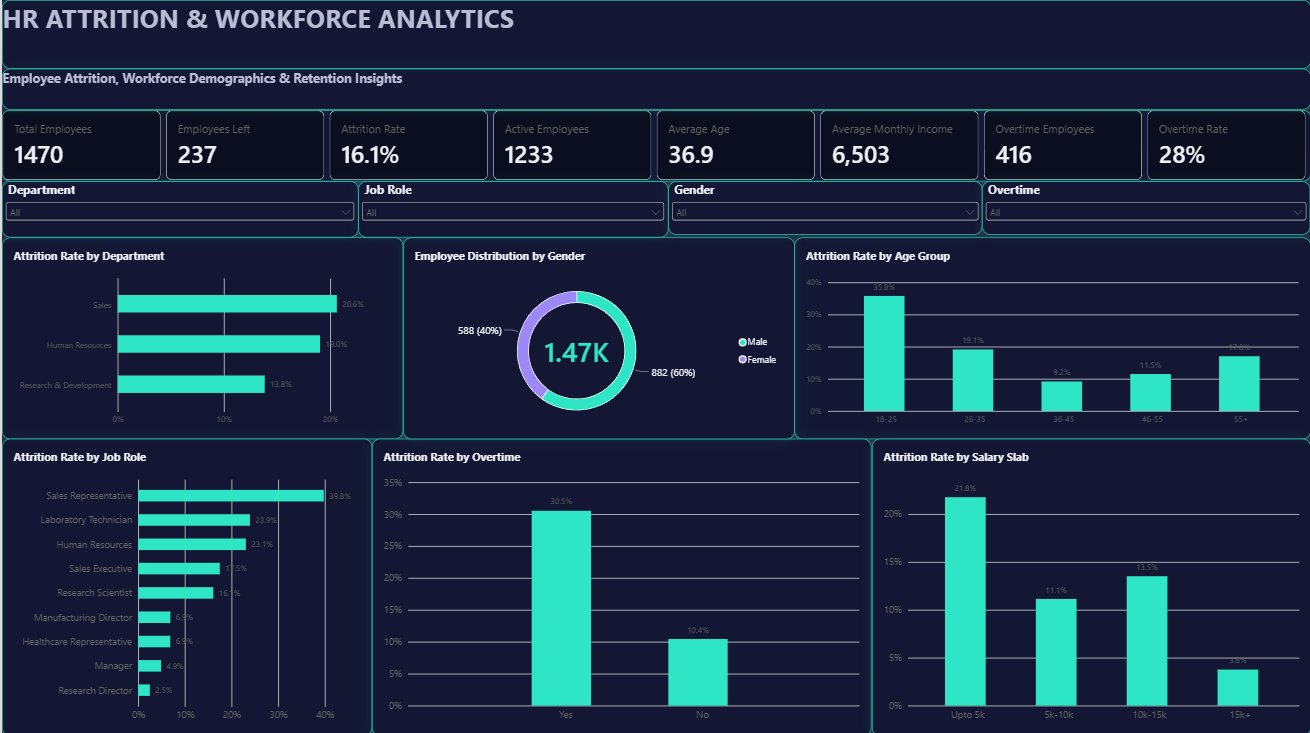

The dashboard page shown, as its layout file describes it:
{"tool":"powerbi","page":{"name":"Page 1","canvas":[1920,1080],"ordinal":0},"visuals":[{"type":"cardVisual","fields":{"Data":["HR Measures.Total Employees","HR Measures.Employees Left","HR Measures.Attrition Rate","HR Measures.Active Employees","HR Measures.Average Age","HR Measures.Average Monthly Income","HR Measures.Overtime Employees","HR Measures.Overtime Rate"]},"box":[0,160.5,1920.4,105],"z":0},{"type":"clusteredBarChart","title":"Attrition Rate by Department","fields":{"Category":["HR_Analytics.Department"],"Y":["HR Measures.Department Attrition Rate"]},"box":[0,347.9,588.7,296.4],"z":1000},{"type":"clusteredColumnChart","fields":{"Category":["HR_Analytics.Age Group"],"Y":["HR Measures.Attrition Rate"]},"box":[1163,347.9,757.5,296.4],"z":2000},{"type":"clusteredBarChart","fields":{"Category":["HR_Analytics.Job Role"],"Y":["HR Measures.Attrition Rate"]},"box":[0,644.3,543.4,436.4],"z":3000},{"type":"clusteredColumnChart","fields":{"Category":["HR_Analytics.Overtime"],"Y":["HR Measures.Attrition Rate"]},"box":[543.4,644.3,732.8,436.4],"z":4000},{"type":"clusteredColumnChart","fields":{"Category":["HR_Analytics.Salary Slab"],"Y":["HR Measures.Attrition Rate"]},"box":[1276.2,644.3,644.3,436.4],"z":5000},{"type":"donutChart","title":"Employee Distribution by Gender","fields":{"Category":["HR_Analytics.Gender"],"Y":["CountNonNull(HR_Analytics.Employee ID)"]},"box":[588.7,347.9,574.3,296.4],"z":6000},{"type":"slicer","fields":{"Values":["HR_Analytics.Department"]},"box":[0,265.5,522.8,82.3],"z":7000},{"type":"slicer","fields":{"Values":["HR_Analytics.Job Role"]},"box":[522.8,265.5,454.9,82.3],"z":8000},{"type":"slicer","fields":{"Values":["HR_Analytics.Gender"]},"box":[977.7,265.5,461.1,78.2],"z":9000},{"type":"slicer","fields":{"Values":["HR_Analytics.Overtime"]},"box":[1438.8,265.5,481.6,78.2],"z":10000},{"type":"textbox","box":[0,0,1920.5,100.9],"z":10001},{"type":"textbox","box":[0,100.9,1920.4,59.7],"z":10002}]}

Visuals, with their boxes in screenshot pixels (x1, y1, x2, y2), scaled from the page's 1920x1080 canvas onto the 1310x733 screenshot:
cardVisual - HR Measures.Total Employees x HR Measures.Employees Left: box(0, 109, 1309, 180)
"Attrition Rate by Department" clusteredBarChart: box(0, 236, 402, 437)
clusteredColumnChart - HR_Analytics.Age Group x HR Measures.Attrition Rate: box(794, 236, 1309, 437)
clusteredBarChart - HR_Analytics.Job Role x HR Measures.Attrition Rate: box(0, 437, 371, 732)
clusteredColumnChart - HR_Analytics.Overtime x HR Measures.Attrition Rate: box(371, 437, 871, 732)
clusteredColumnChart - HR_Analytics.Salary Slab x HR Measures.Attrition Rate: box(871, 437, 1309, 732)
"Employee Distribution by Gender" donutChart: box(402, 236, 794, 437)
slicer - HR_Analytics.Department: box(0, 180, 357, 236)
slicer - HR_Analytics.Job Role: box(357, 180, 667, 236)
slicer - HR_Analytics.Gender: box(667, 180, 982, 233)
slicer - HR_Analytics.Overtime: box(982, 180, 1309, 233)
textbox: box(0, 0, 1309, 68)
textbox: box(0, 68, 1309, 109)
